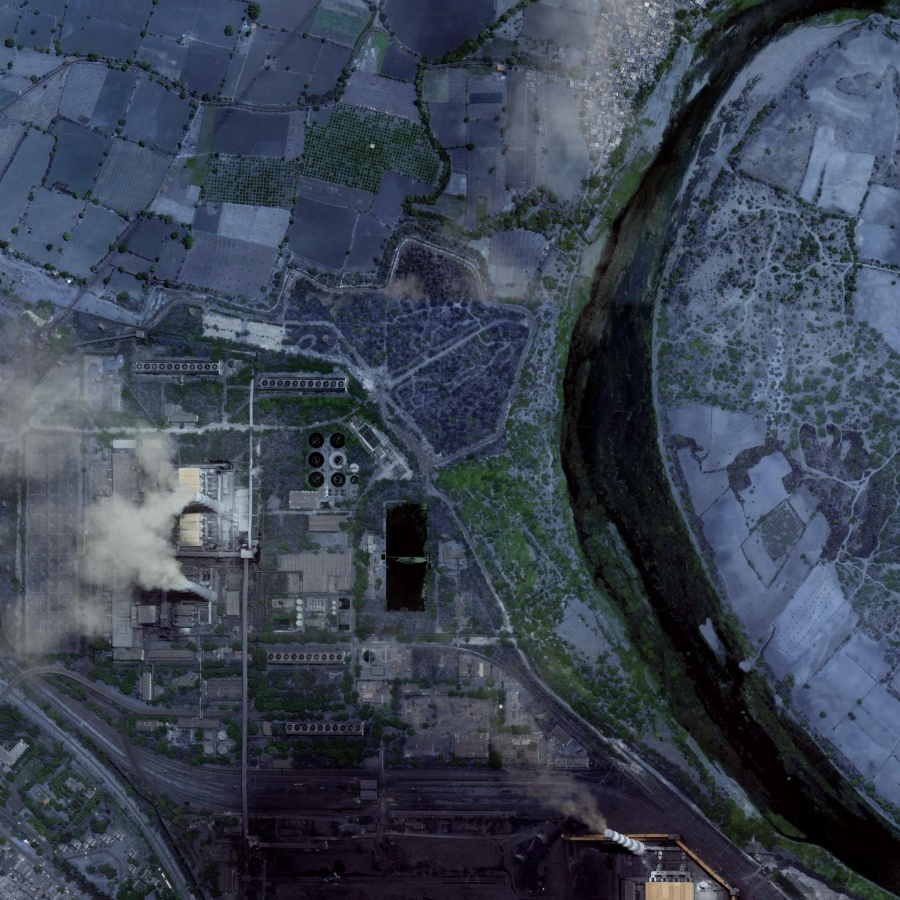PowerPlant: (28, 352, 300, 672)
